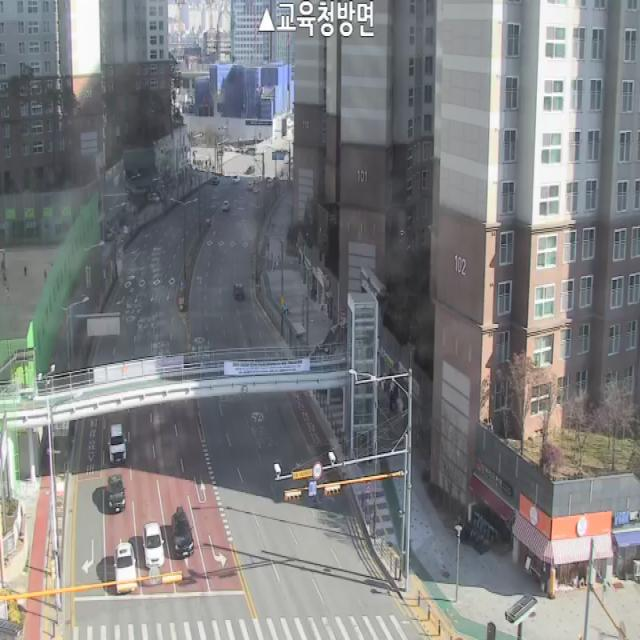Car: (172, 506, 194, 559), (114, 543, 136, 593), (143, 522, 164, 568), (107, 424, 127, 463), (108, 474, 125, 514), (234, 284, 244, 300), (222, 201, 230, 211)
